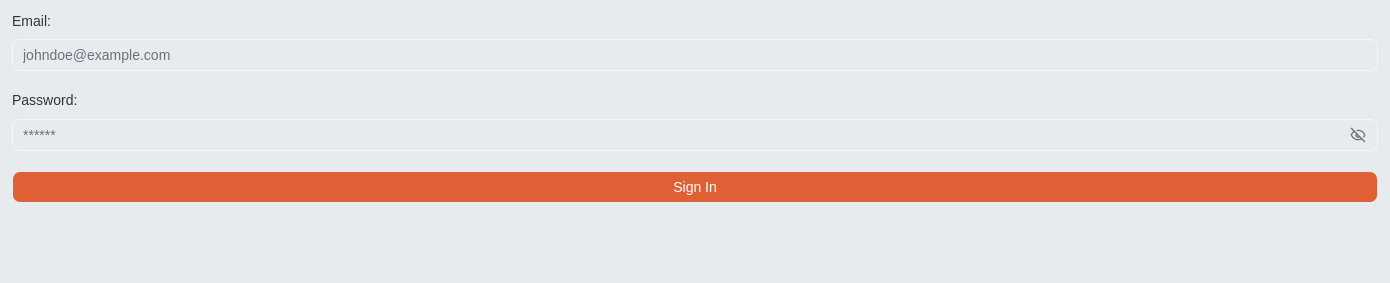
SignInForm › shows the success message returned by the sign-in action
This screenshot has width=1390, height=283.
In the field with placeholder "johndoe@example.com": (695, 55) [13,39,1377,71], type "jane@example.com"
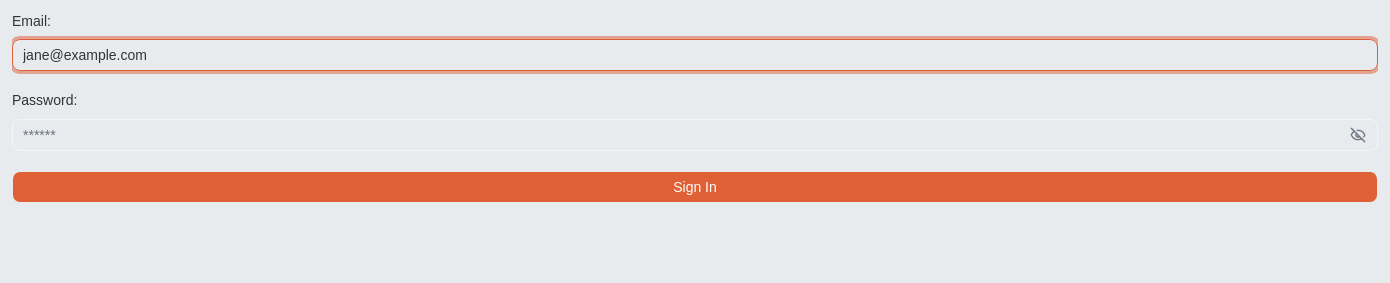
In the password field with placeholder "******": (677, 134) [13,118,1342,150], type "secret123"
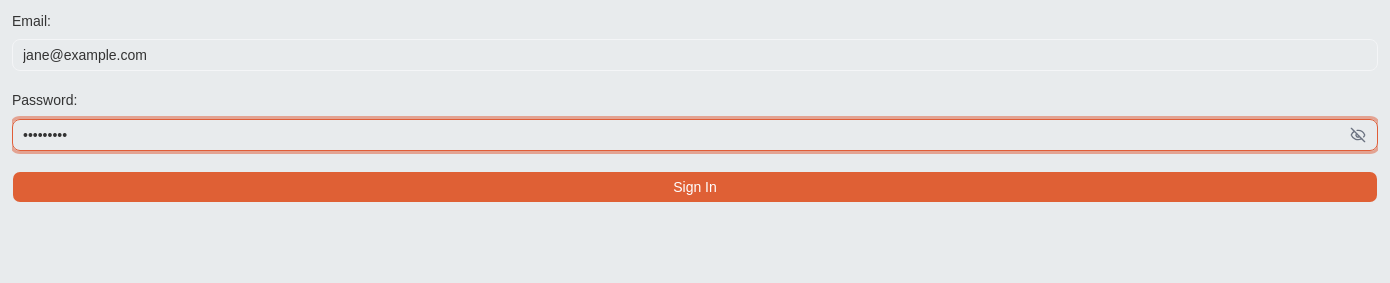
Click the button "Sign In": (695, 186) [12,170,1378,202]
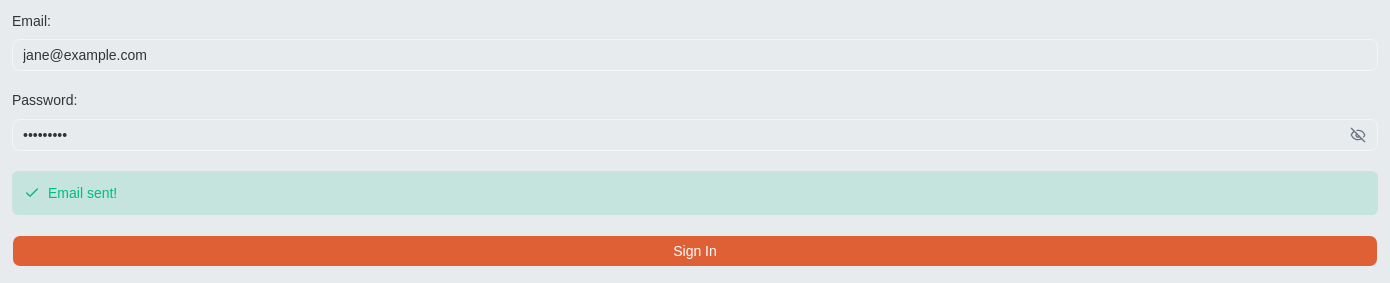
Expected: the text "Email sent!" is shown, [48,182,117,202]
